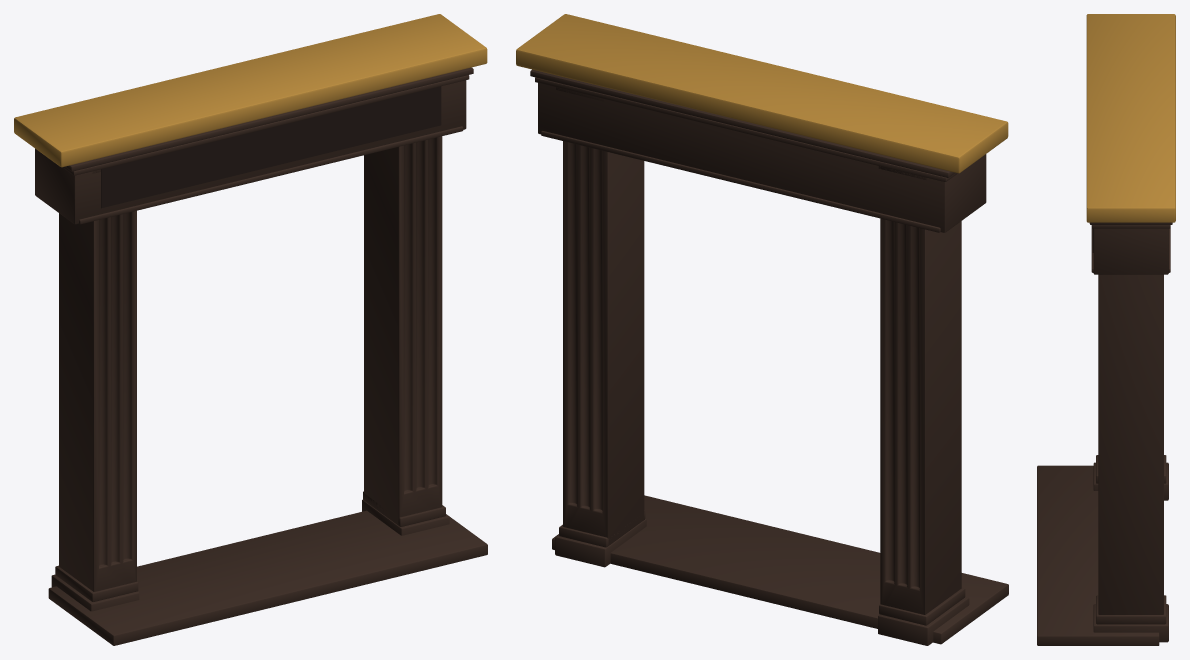
The model's file is door_lintel.glb.
The picture shows the model from 3 angles, left to right: view 1: azimuth 30°, elevation 25°; view 2: azimuth 150°, elevation 25°; view 3: azimuth 270°, elevation 25°; orthographic projection. The views are drawn at different scales.
Parts seen in each view (by area): view 1: door_lintel; view 2: door_lintel; view 3: door_lintel.
Part boxes in pixels (<box>): door_lintel: <box>14,14,487,645</box>; door_lintel: <box>516,14,1008,645</box>; door_lintel: <box>1037,14,1175,645</box>.
Bounding box in the file's own units: 4.9 × 5.28 × 1.47.
